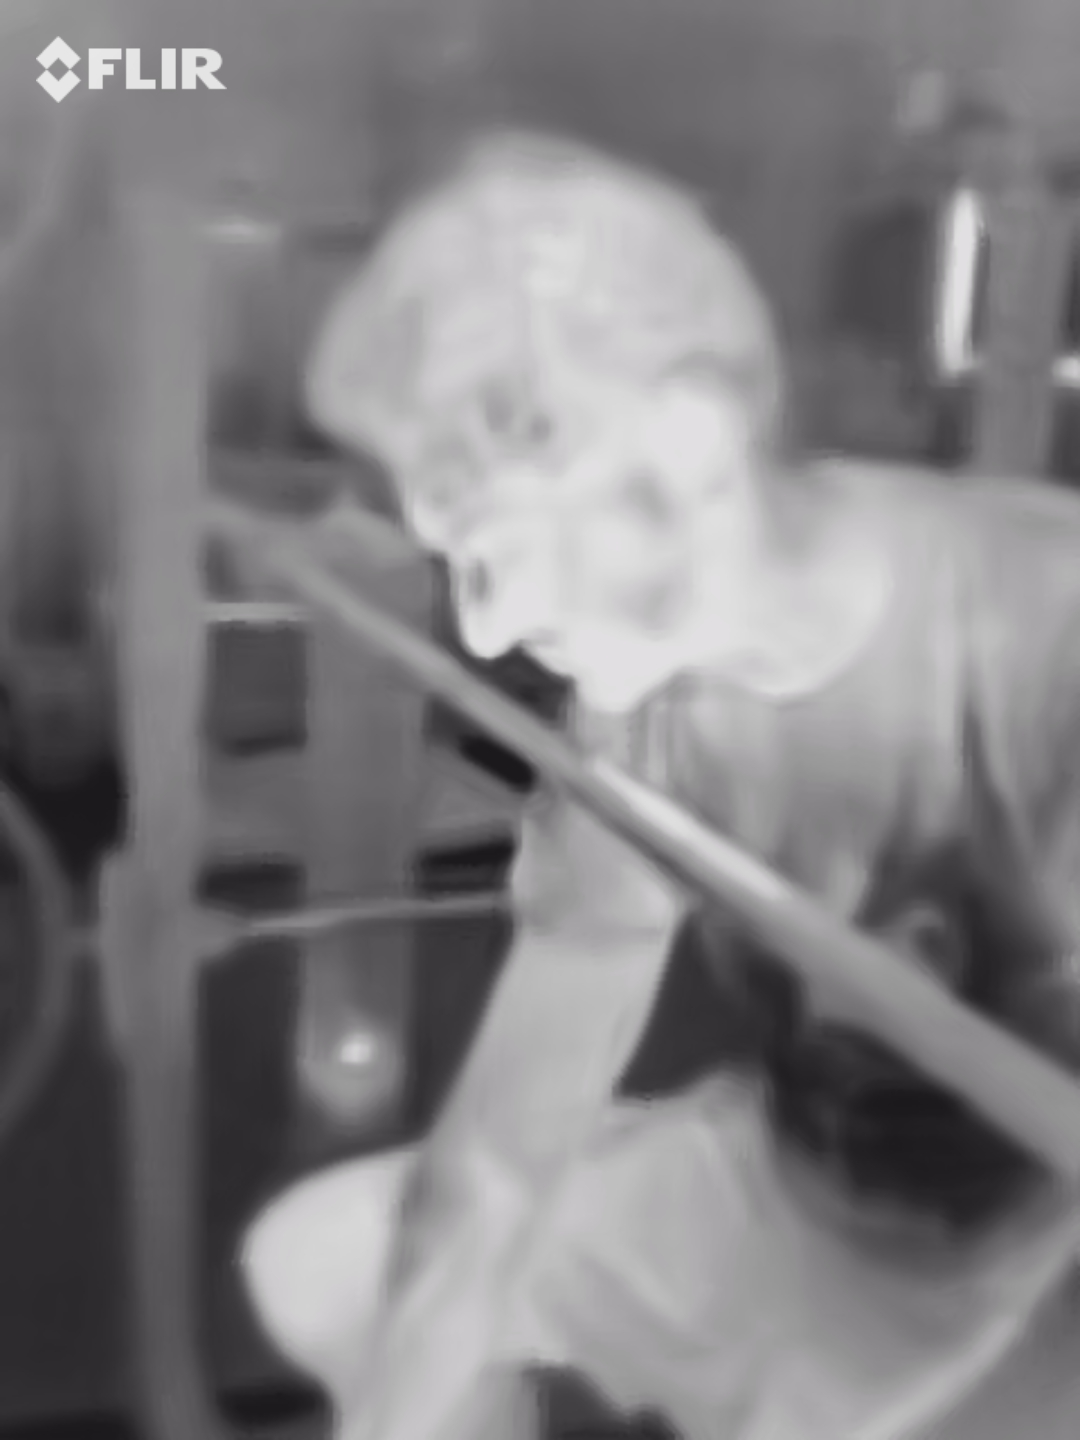head: (298, 142, 826, 716)
